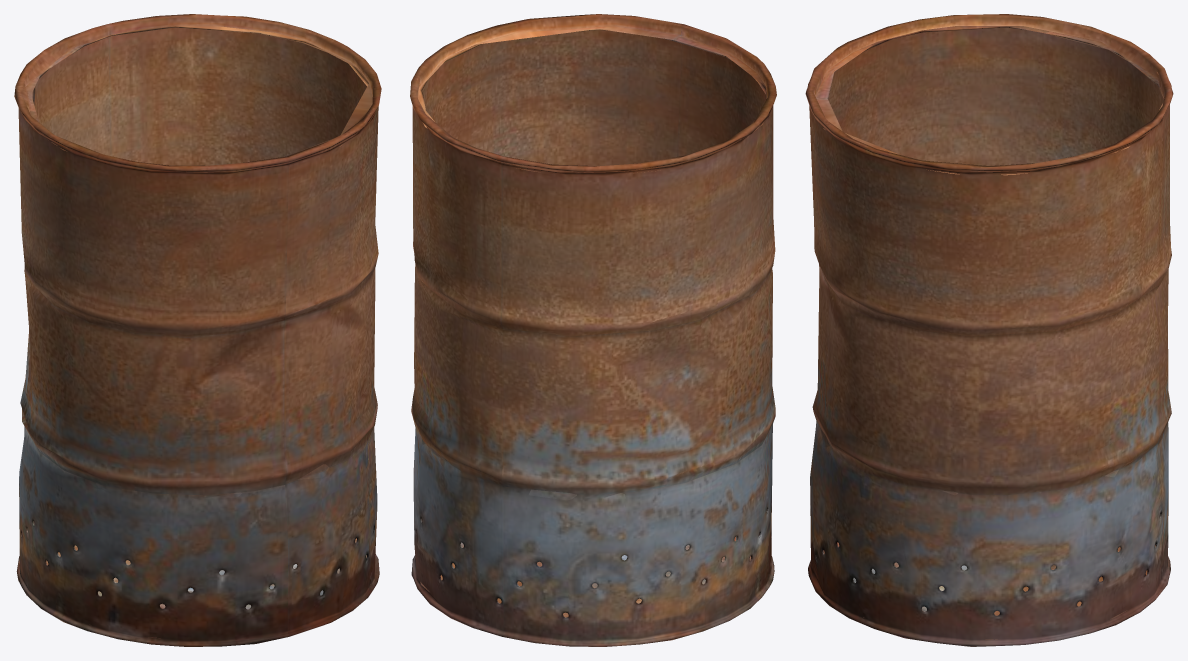
Rendered from barrel_stove.glb.
3 renders of one model, left to right at view 1: azimuth 30°, elevation 25°; view 2: azimuth 150°, elevation 25°; view 3: azimuth 270°, elevation 25°, orthographic.
Visible parts, largest first — view 1: barrel_stove; view 2: barrel_stove; view 3: barrel_stove.
Part boxes in pixels (x1,y1,x2,y2): barrel_stove: [14, 14, 381, 646]; barrel_stove: [410, 14, 776, 646]; barrel_stove: [805, 14, 1173, 646].
Size of the model in its own units: 0.5887 by 0.8556 by 0.5926.
Materials: 1 (1 with a texture image).
